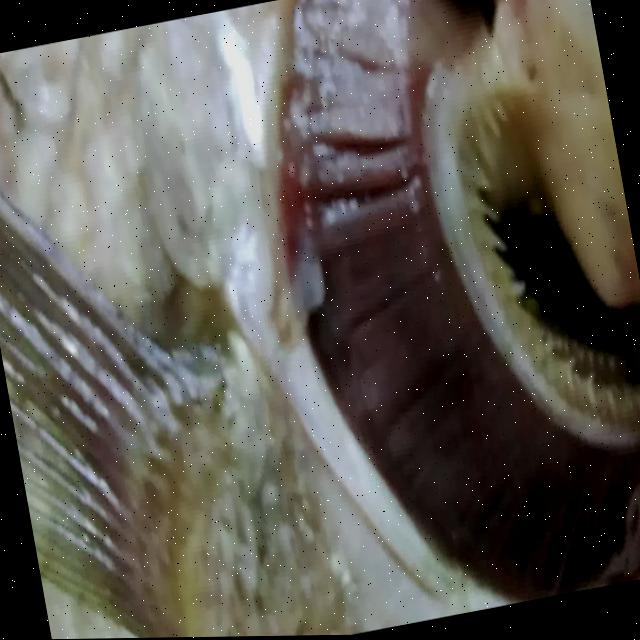Non-Fresh: (229, 0, 640, 618)
